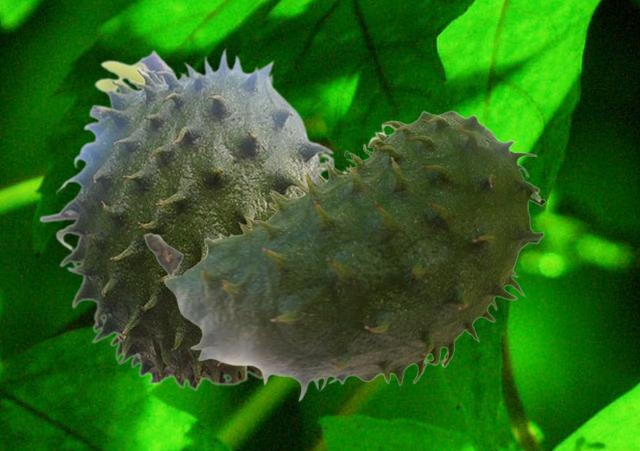guyabano: (143, 110, 545, 401), (38, 46, 336, 391)
